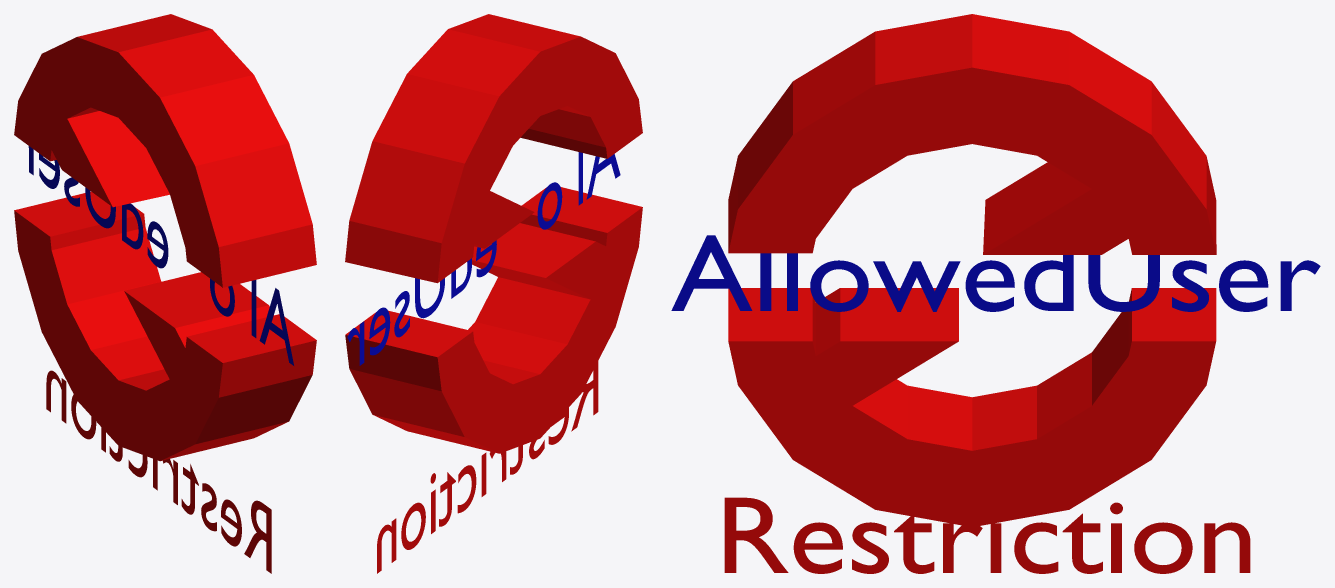
File: AllowedUserWarning.fbx
The picture shows the model from 3 angles, left to right: view 1: azimuth 30°, elevation 25°; view 2: azimuth 150°, elevation 25°; view 3: azimuth 270°, elevation 25°; orthographic projection. The views are drawn at different scales.
Visible parts, largest first — view 1: Circle, Restriction, AllowedUser; view 2: Circle, AllowedUser, Restriction; view 3: Circle, AllowedUser, Restriction.
Part boxes in pixels (<box>): Circle: <box>14,14,316,461</box>; Restriction: <box>46,370,271,573</box>; AllowedUser: <box>28,146,293,365</box>; Circle: <box>345,14,642,453</box>; AllowedUser: <box>347,152,620,365</box>; Restriction: <box>377,361,598,573</box>; Circle: <box>728,14,1216,527</box>; AllowedUser: <box>671,235,1320,311</box>; Restriction: <box>724,497,1250,573</box>.
Size of the model in its own units: 62.5 by 290 by 320.
